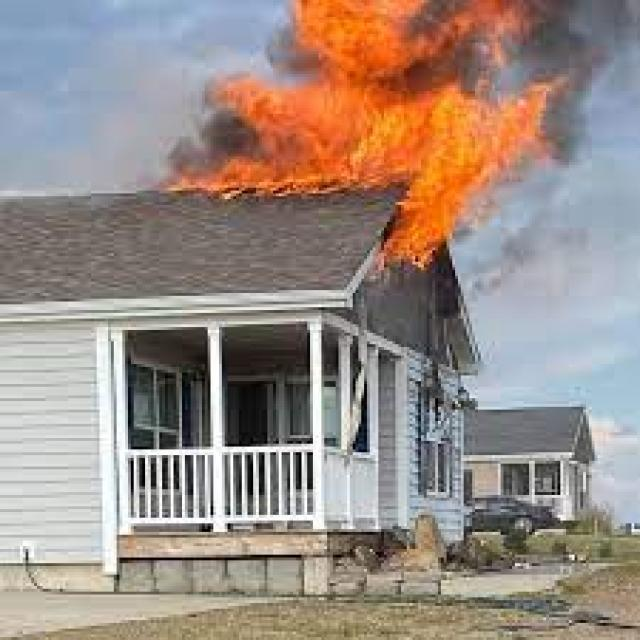Fire: (239, 12, 538, 226)
Smoke: (502, 2, 640, 136)
